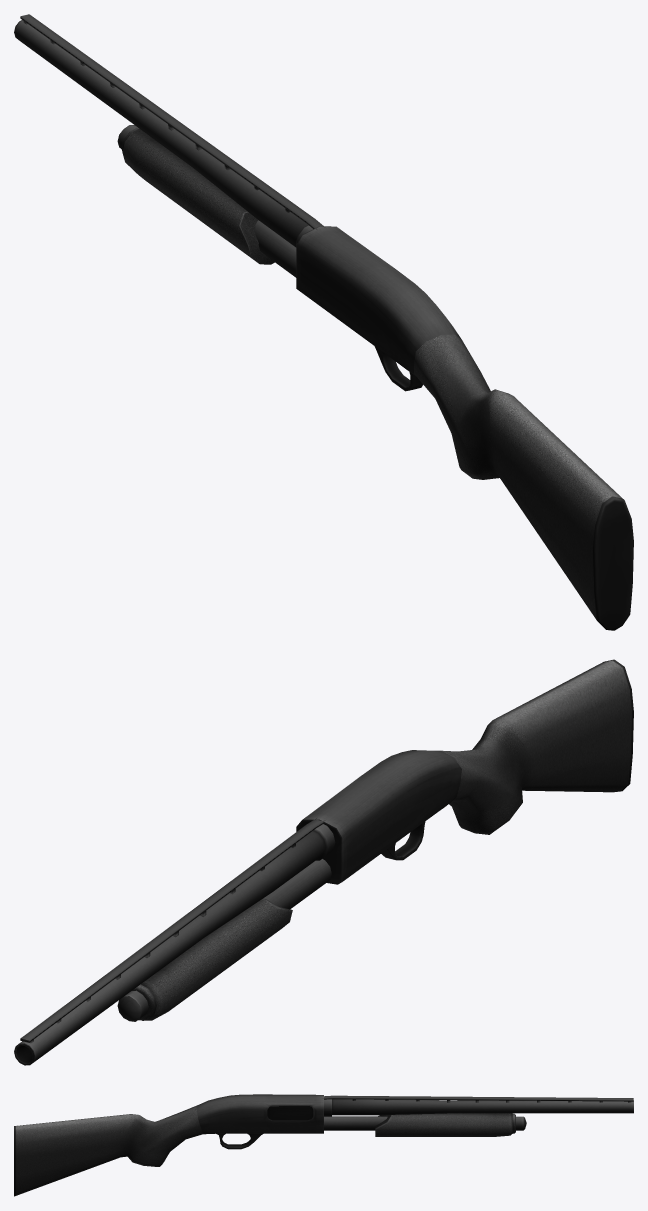
Rendered from Remington870.fbx.
The picture shows the model from 3 angles, top to bottom: view 1: azimuth 30°, elevation 25°; view 2: azimuth 150°, elevation 25°; view 3: azimuth 270°, elevation 25°; orthographic projection. The views are drawn at different scales.
Parts seen in each view (by area): view 1: Remington870; view 2: Remington870; view 3: Remington870.
Part boxes in pixels (x1=…): Remington870: x1=14, y1=14, x2=633, y2=630; Remington870: x1=14, y1=659, x2=633, y2=1065; Remington870: x1=14, y1=1094, x2=633, y2=1196.
Bounding box in the file's own units: 0.0274 × 0.6067 × 0.1071.
